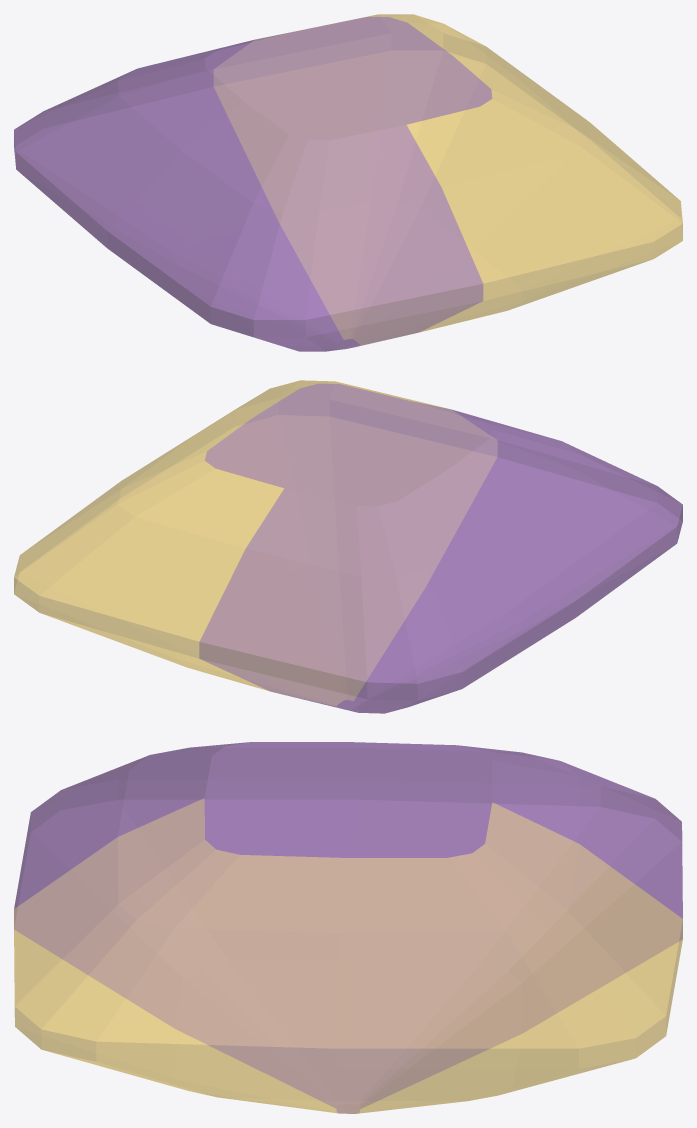
Rendered from stone-ametrine.glb.
The picture shows the model from 3 angles, top to bottom: view 1: azimuth 30°, elevation 25°; view 2: azimuth 150°, elevation 25°; view 3: azimuth 270°, elevation 25°; orthographic projection. The views are drawn at different scales.
Visible parts, largest first — view 1: Sculpture; view 2: Sculpture; view 3: Sculpture.
Boxes of the visible parts, bbox=[...] form: Sculpture: bbox=[14, 14, 682, 351]; Sculpture: bbox=[14, 380, 682, 713]; Sculpture: bbox=[14, 742, 682, 1113].
Bounding box in the file's own units: 2 × 1.07 × 2.1.
